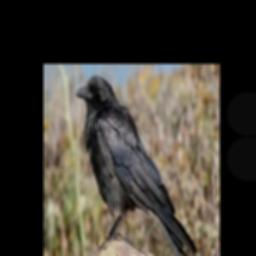Crow: (74, 74, 197, 256)
